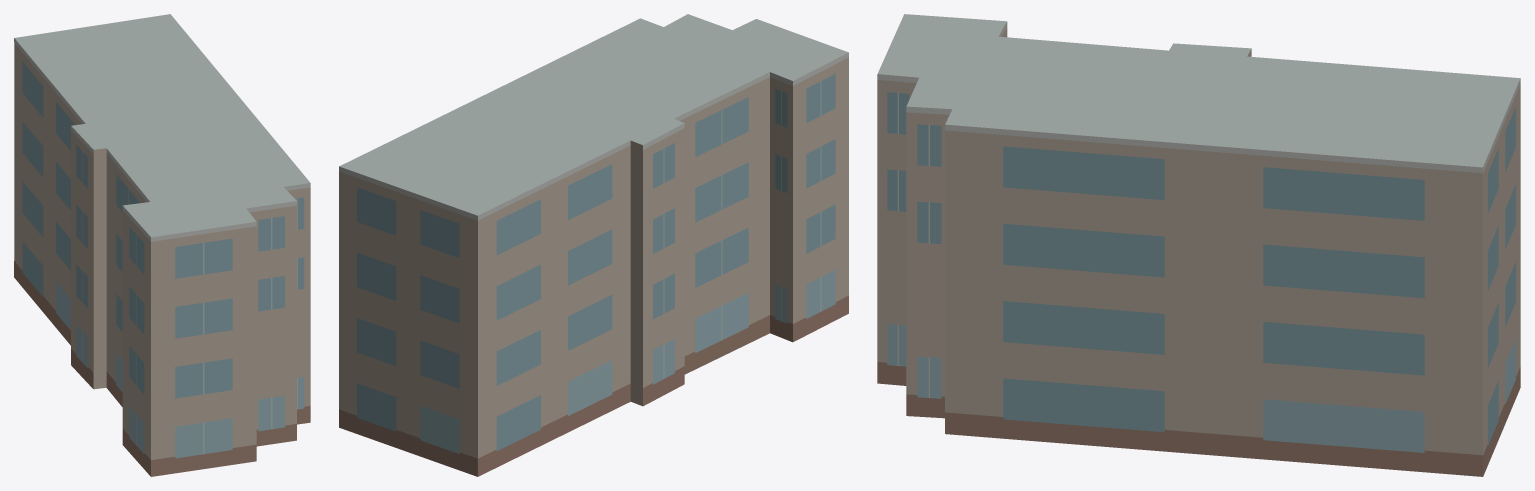
File: survey-upis-32602761.glb
3 views of the same model, side by side, from view 1: azimuth 30°, elevation 25°; view 2: azimuth 150°, elevation 25°; view 3: azimuth 270°, elevation 25° (orthographic). The views are drawn at different scales.
Visible parts, largest first — view 1: survey-upis-32602761.tmp; view 2: survey-upis-32602761.tmp; view 3: survey-upis-32602761.tmp.
Part boxes in pixels (<box>): survey-upis-32602761.tmp: <box>14,14,310,476</box>; survey-upis-32602761.tmp: <box>339,14,848,476</box>; survey-upis-32602761.tmp: <box>877,14,1520,476</box>.
Bounding box in the file's own units: 13.84 × 13 × 24.5.
